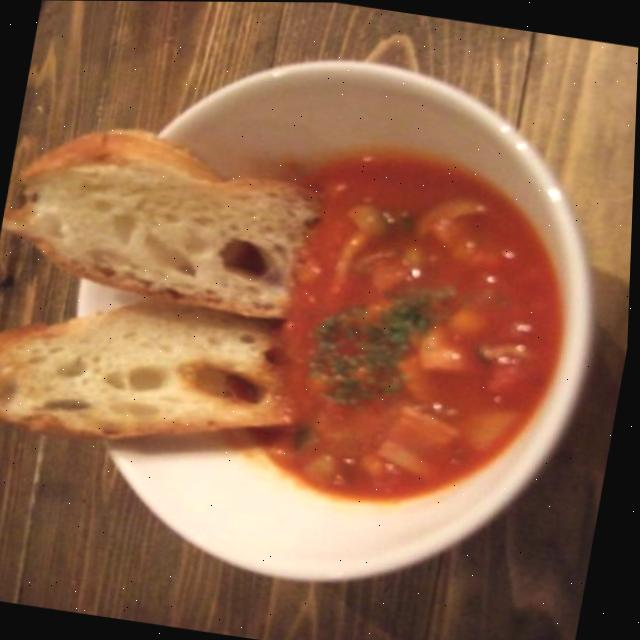熟制海鲜: (40, 0, 122, 70)
